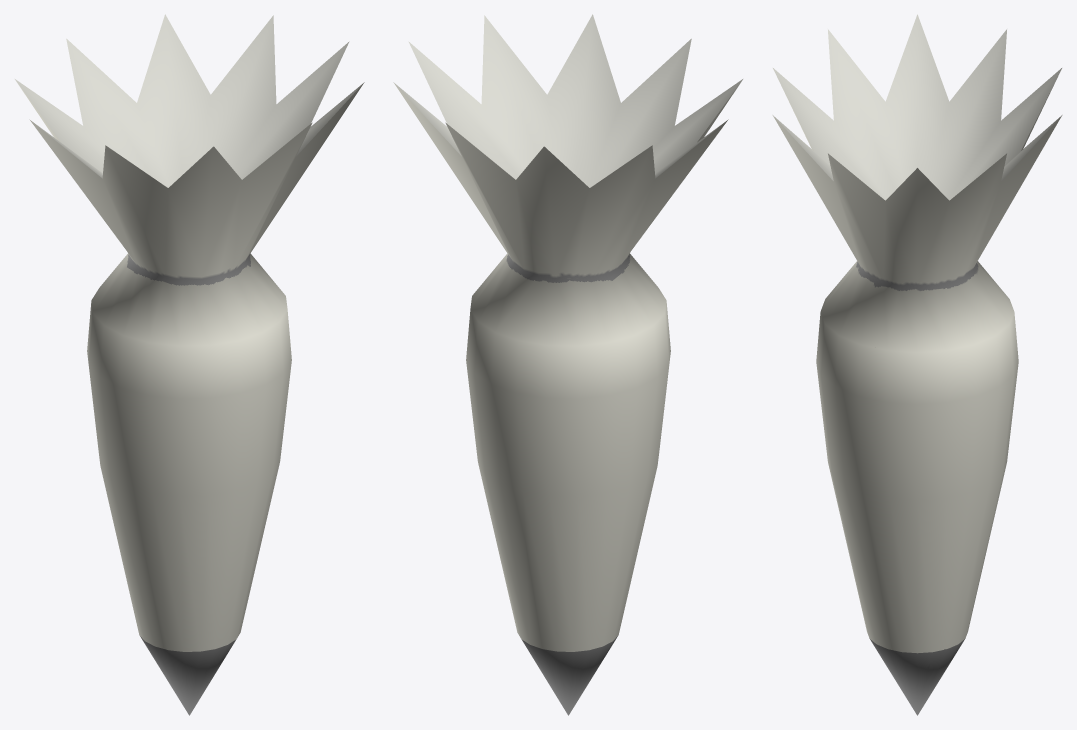
The model's file is pastryBag.fbx.
The picture shows the model from 3 angles, left to right: view 1: azimuth 30°, elevation 25°; view 2: azimuth 150°, elevation 25°; view 3: azimuth 270°, elevation 25°; orthographic projection.
Parts seen in each view (by area): view 1: pCylinder1; view 2: pCylinder1; view 3: pCylinder1.
Boxes of the visible parts, bbox=[...] form: pCylinder1: bbox=[15, 14, 364, 715]; pCylinder1: bbox=[393, 14, 742, 715]; pCylinder1: bbox=[772, 14, 1062, 715].
Size of the model in its own units: 18.43 by 34.94 by 14.71.
Materials: 1 (1 with a texture image).
